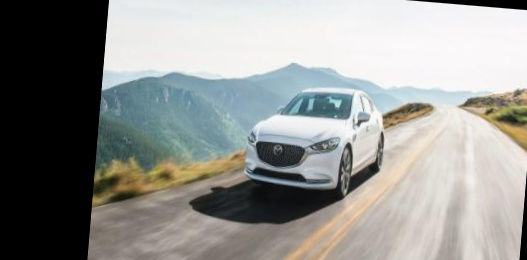car: (223, 59, 412, 230)
